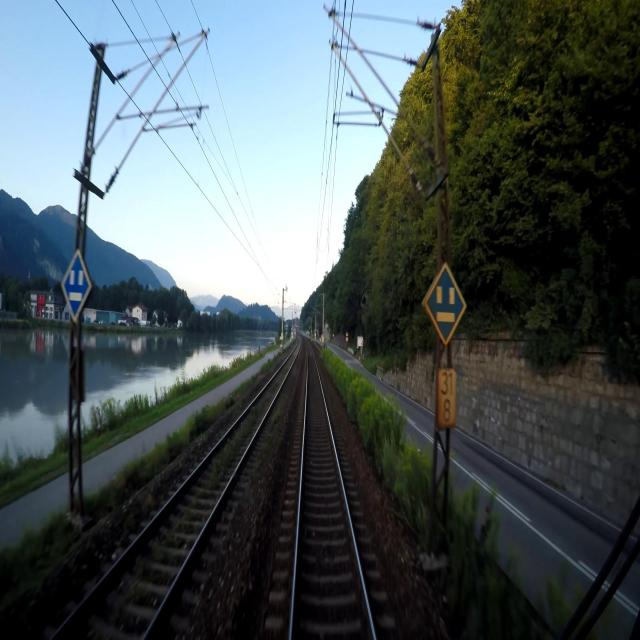rail-track: (54, 346, 298, 639), (293, 346, 372, 639)
